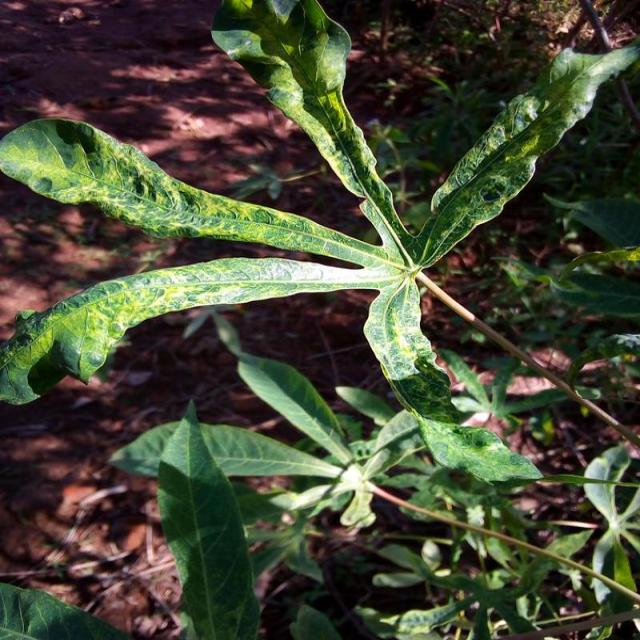Mosaico: (74, 28, 527, 360)
